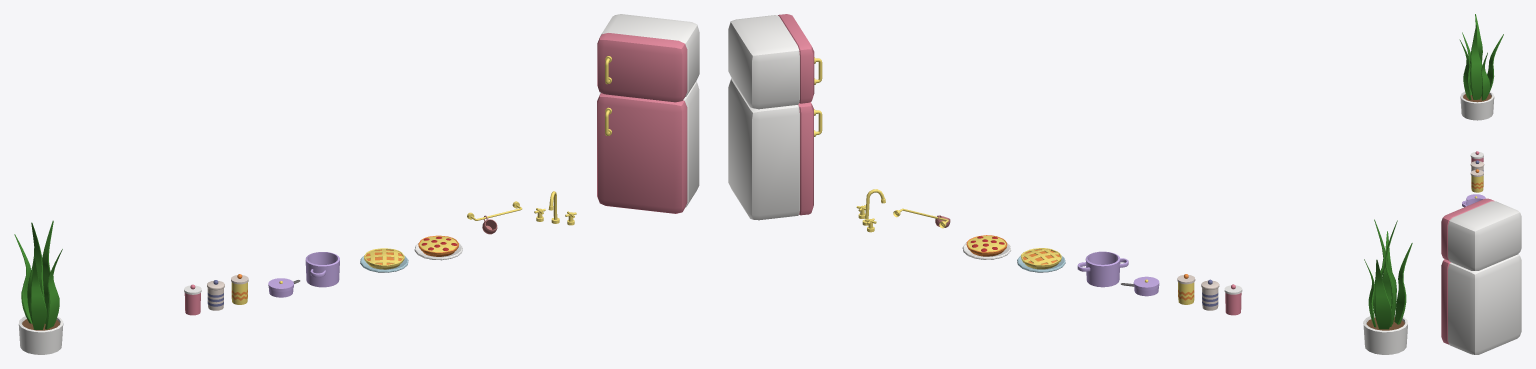
Rendered from Kitchen props.fbx.
3 renders of one model, left to right at view 1: azimuth 30°, elevation 25°; view 2: azimuth 150°, elevation 25°; view 3: azimuth 270°, elevation 25°, orthographic. The views are drawn at different scales.
Parts seen in each view (by area): view 1: Fridge, Gamle big, Presure bowl, Cake bake, Pizza; view 2: Fridge, Gamle big, Presure bowl, Pizza, Cake bake; view 3: Fridge, Gamle big, Bottle, bottle, bottle.001, Presure bowl, Presure kokr.
Part boxes in pixels (x1,y1,x2,y2): Fridge: [597, 14, 699, 213]; Gamle big: [14, 220, 63, 354]; Presure bowl: [305, 252, 339, 287]; Cake bake: [364, 248, 404, 269]; Pizza: [418, 235, 458, 256]; Fridge: [728, 14, 822, 220]; Gamle big: [1363, 219, 1412, 354]; Presure bowl: [1077, 251, 1128, 287]; Pizza: [966, 235, 1007, 256]; Cake bake: [1021, 248, 1061, 269]; Fridge: [1441, 198, 1521, 354]; Gamle big: [1459, 14, 1503, 120]; Bottle: [1470, 169, 1483, 192]; bottle: [1470, 151, 1483, 162]; bottle.001: [1470, 160, 1484, 171]; Presure bowl: [1462, 198, 1483, 207]; Presure kokr: [1466, 194, 1485, 200].
Size of the model in its own units: 895 by 217 by 122.
